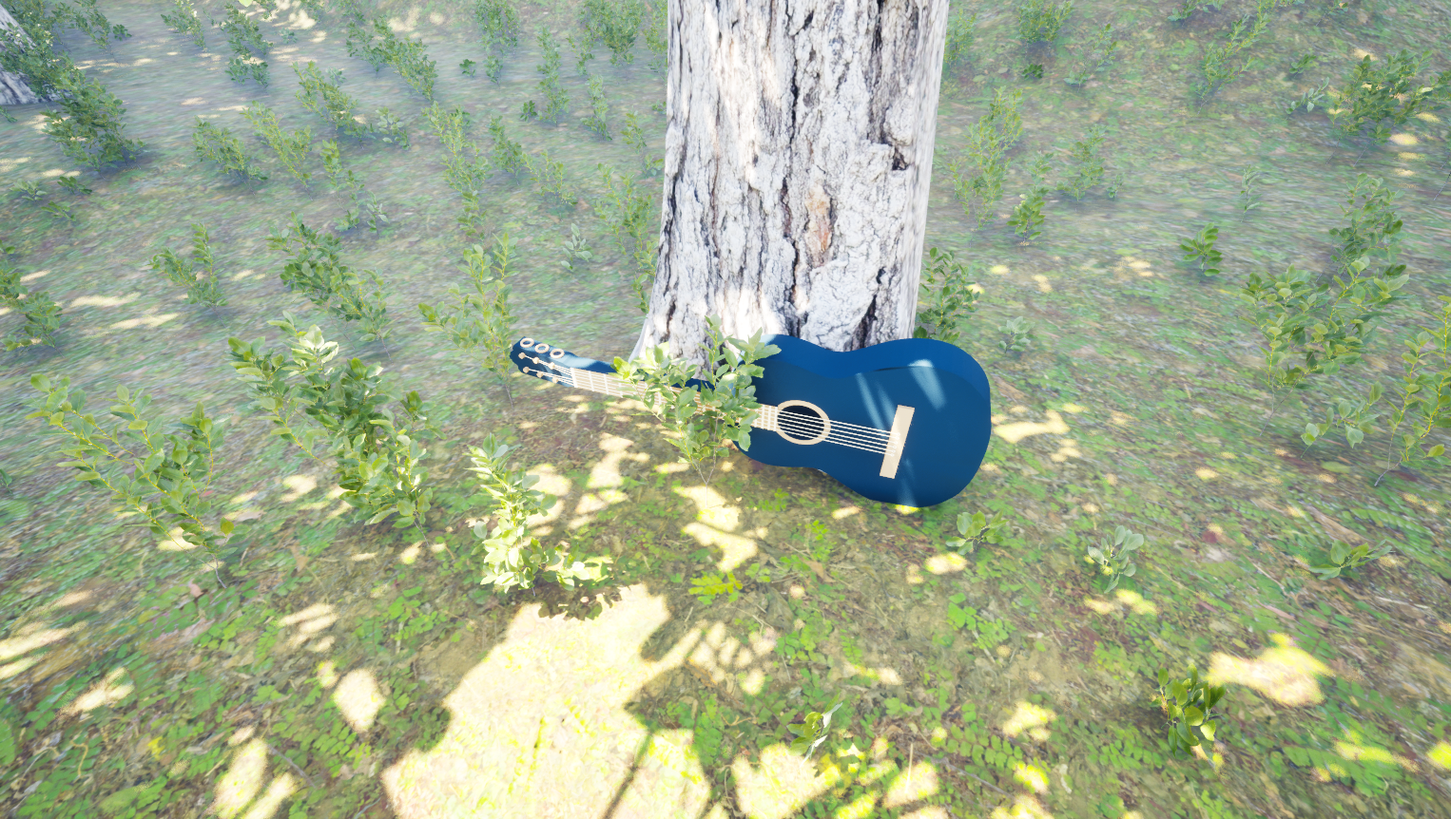Guitar: (469, 195, 1038, 697)
